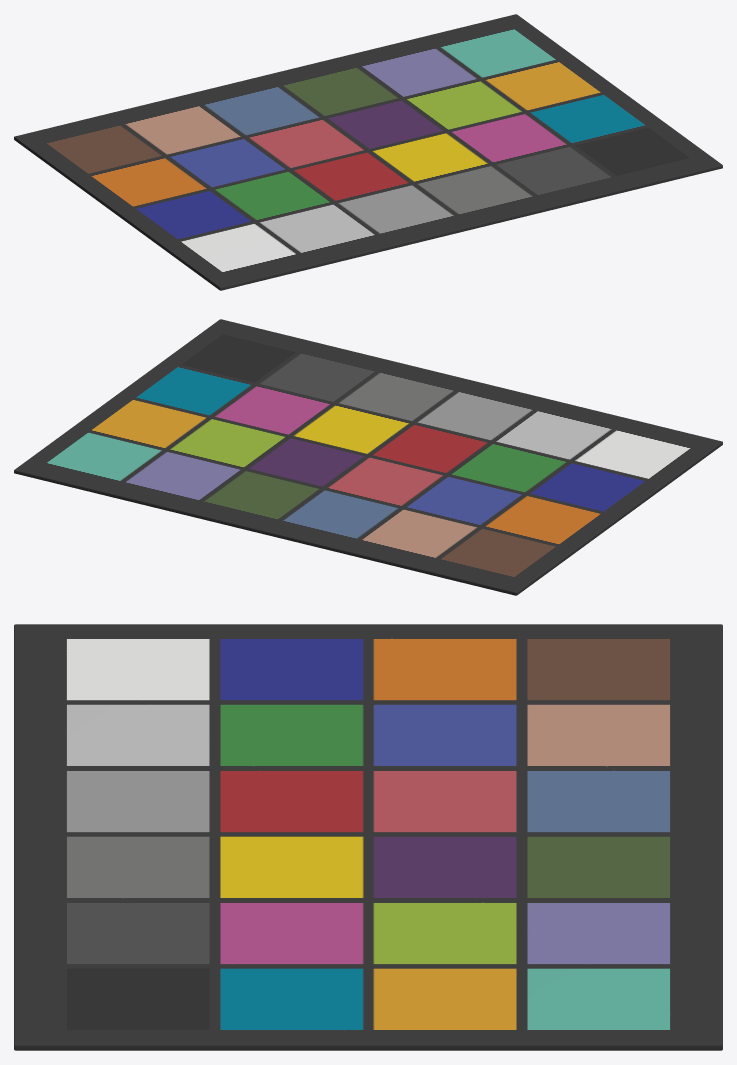
The model's file is ColorCheckerChart_0001.fbx.
3 views of the same model, one above another, from view 1: azimuth 30°, elevation 25°; view 2: azimuth 150°, elevation 25°; view 3: azimuth 270°, elevation 25° (orthographic). The views are drawn at different scales.
Visible parts, largest first — view 1: pPlane1; view 2: pPlane1; view 3: pPlane1.
Part boxes in pixels (x1=…): pPlane1: x1=14, y1=14, x2=722, y2=290; pPlane1: x1=14, y1=319, x2=722, y2=595; pPlane1: x1=14, y1=624, x2=722, y2=1050.
Size of the model in its own units: 28.9 by 0.1947 by 20.57.
